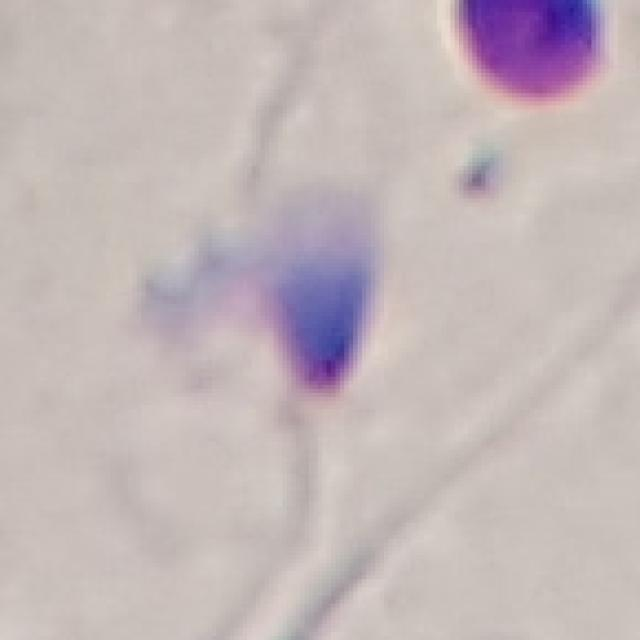non-sperm: (258, 182, 382, 397)
